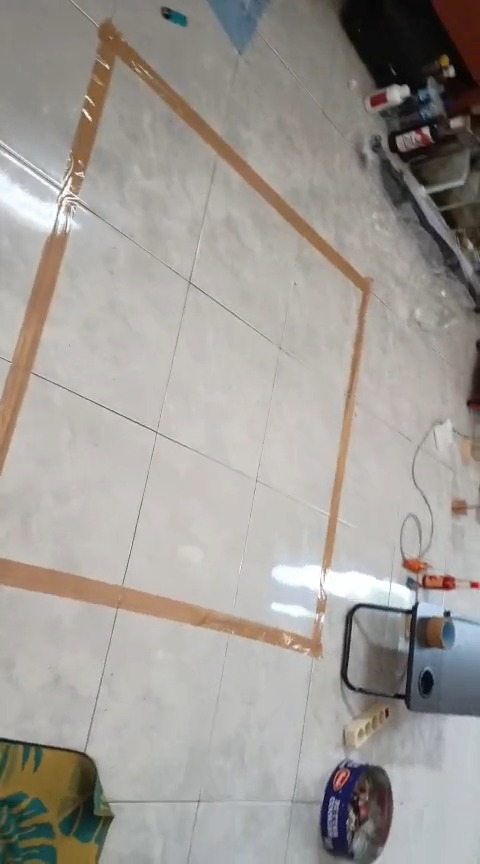floor marking: (0, 20, 370, 657)
